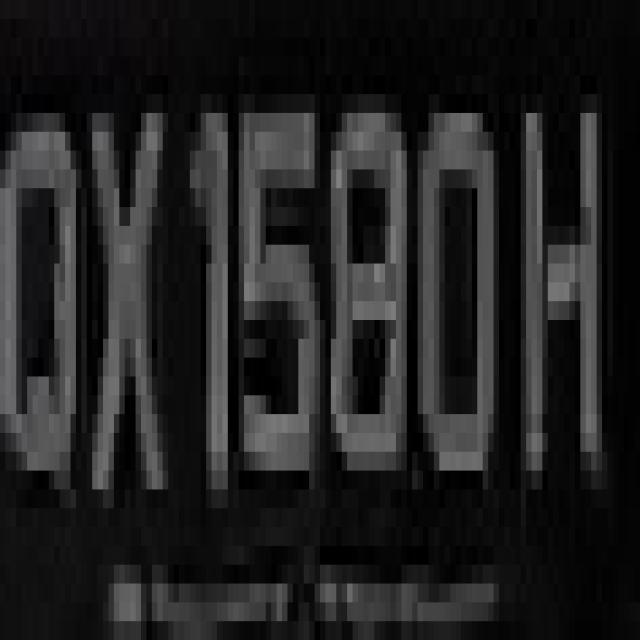0: (412, 57, 510, 527)
1: (200, 19, 250, 527)
5: (228, 0, 331, 565)
8: (336, 56, 418, 546)
H: (504, 38, 613, 527)
Q: (5, 56, 81, 584)
X: (71, 75, 168, 546)
